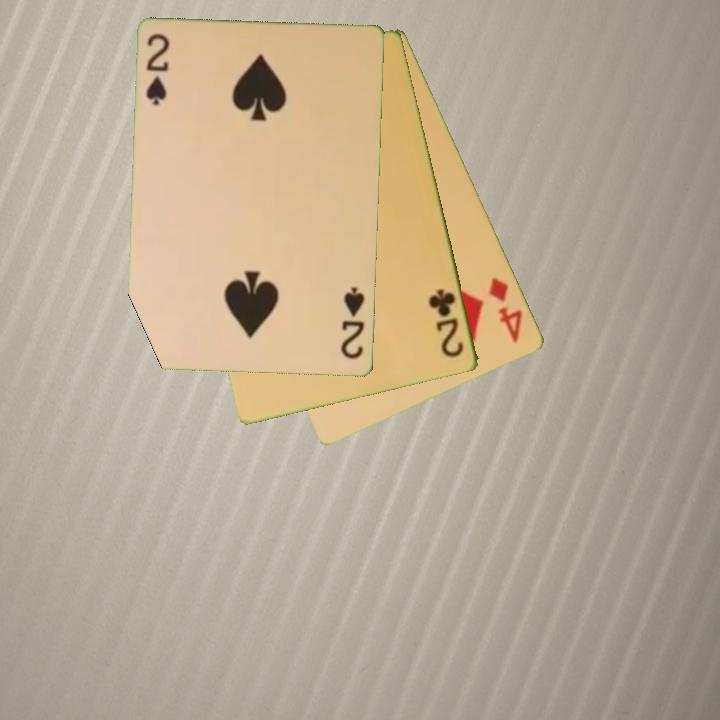2c: (425, 285, 467, 361)
2s: (338, 284, 368, 362), (143, 31, 173, 108)
4d: (485, 274, 526, 346)
